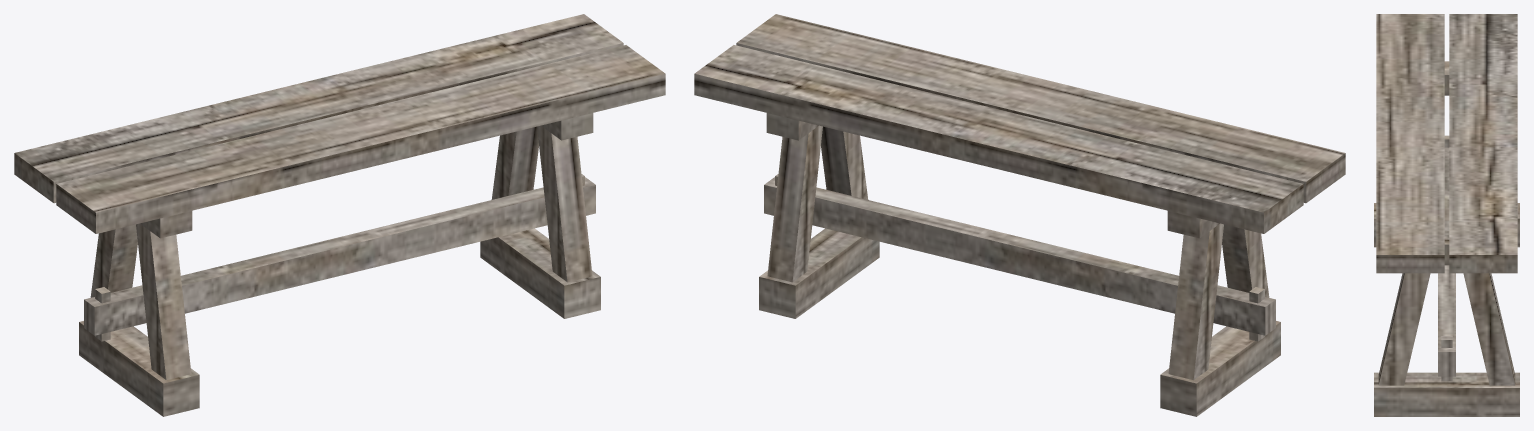
Rendered from bench_tex.glb.
3 views of the same model, side by side, from view 1: azimuth 30°, elevation 25°; view 2: azimuth 150°, elevation 25°; view 3: azimuth 270°, elevation 25° (orthographic). The views are drawn at different scales.
Parts seen in each view (by area): view 1: bench; view 2: bench; view 3: bench.
Boxes of the visible parts, box(x1,y1,x2,y2) form: bench: box(14, 14, 665, 416); bench: box(694, 14, 1345, 416); bench: box(1374, 14, 1519, 416).
Size of the model in its own units: 1.25 by 0.46 by 0.32.
1 material, 1 textured.
